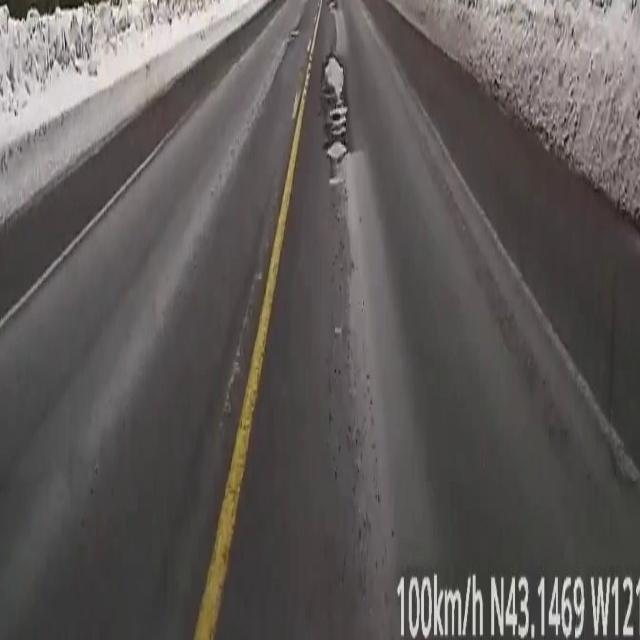pothole: (322, 51, 347, 176)
